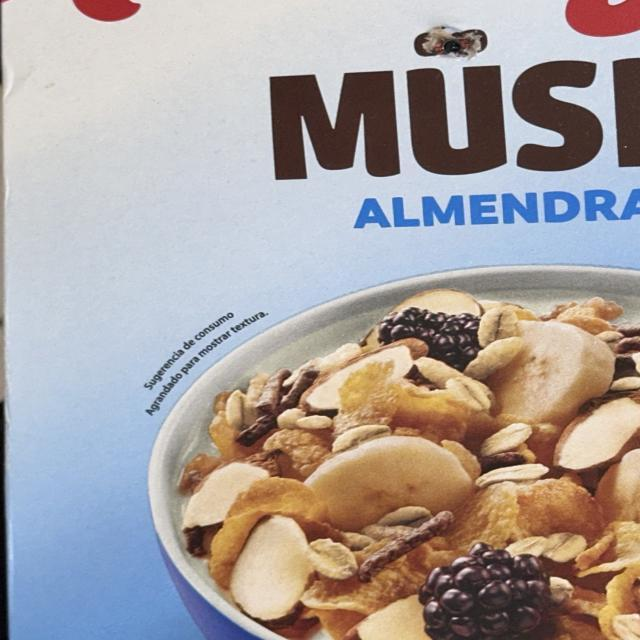hidden camera: (441, 38, 462, 55)
